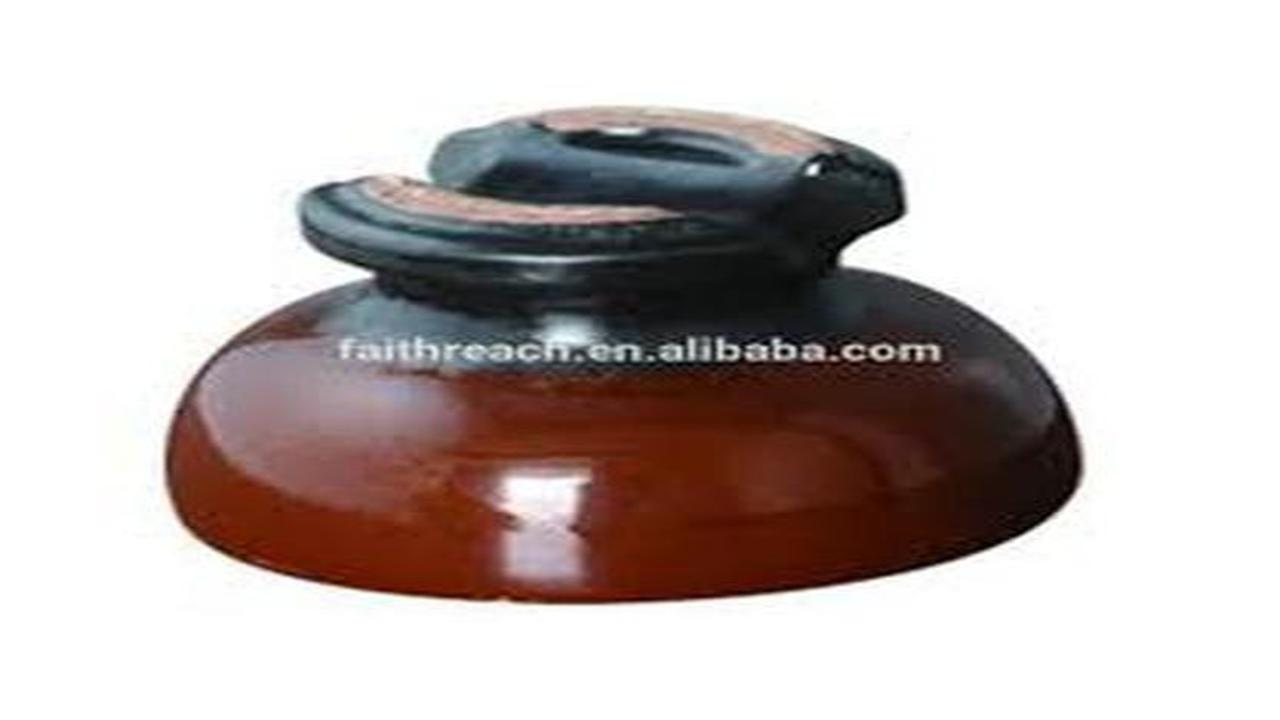insulator_pin: (161, 103, 1093, 613)
